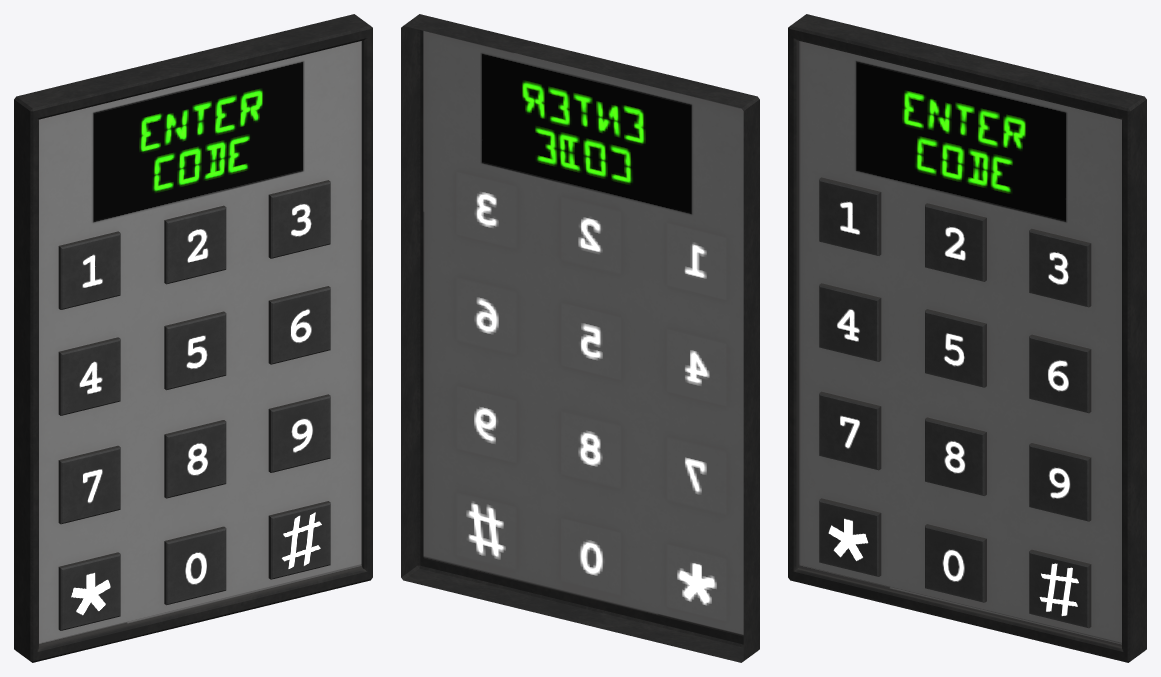
File: pinpad.glb
3 views of the same model, side by side, from view 1: azimuth 30°, elevation 25°; view 2: azimuth 150°, elevation 25°; view 3: azimuth 330°, elevation 25° (orthographic).
Parts seen in each view (by area): view 1: Object_2; view 2: Object_2; view 3: Object_2.
Part boxes in pixels (x1,y1,x2,y2): Object_2: [14, 14, 372, 662]; Object_2: [401, 14, 759, 662]; Object_2: [788, 14, 1146, 662].
Size of the model in its own units: 12.8 by 19.8 by 1.1.
1 material, 1 textured.
